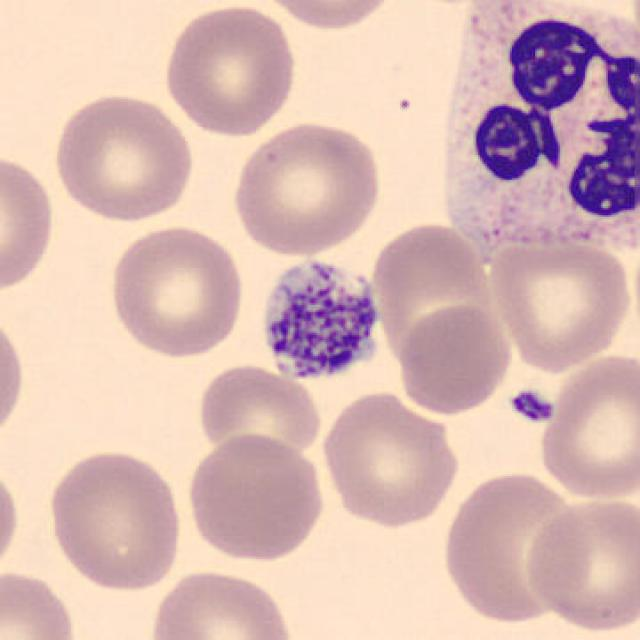Neutrophil: (426, 0, 640, 268)
Platelets: (252, 254, 386, 384), (505, 386, 558, 425)
RBC: (438, 467, 590, 626), (228, 118, 386, 258), (42, 444, 186, 592), (485, 231, 635, 372), (316, 388, 462, 531), (48, 88, 197, 224), (366, 219, 500, 370), (105, 222, 247, 360), (183, 430, 329, 564), (158, 2, 300, 139), (521, 492, 638, 636), (535, 349, 640, 504), (393, 302, 515, 416), (194, 360, 325, 462), (146, 566, 300, 640), (0, 146, 59, 296), (0, 566, 82, 640), (254, 0, 403, 33), (0, 306, 28, 449), (0, 457, 23, 580)
